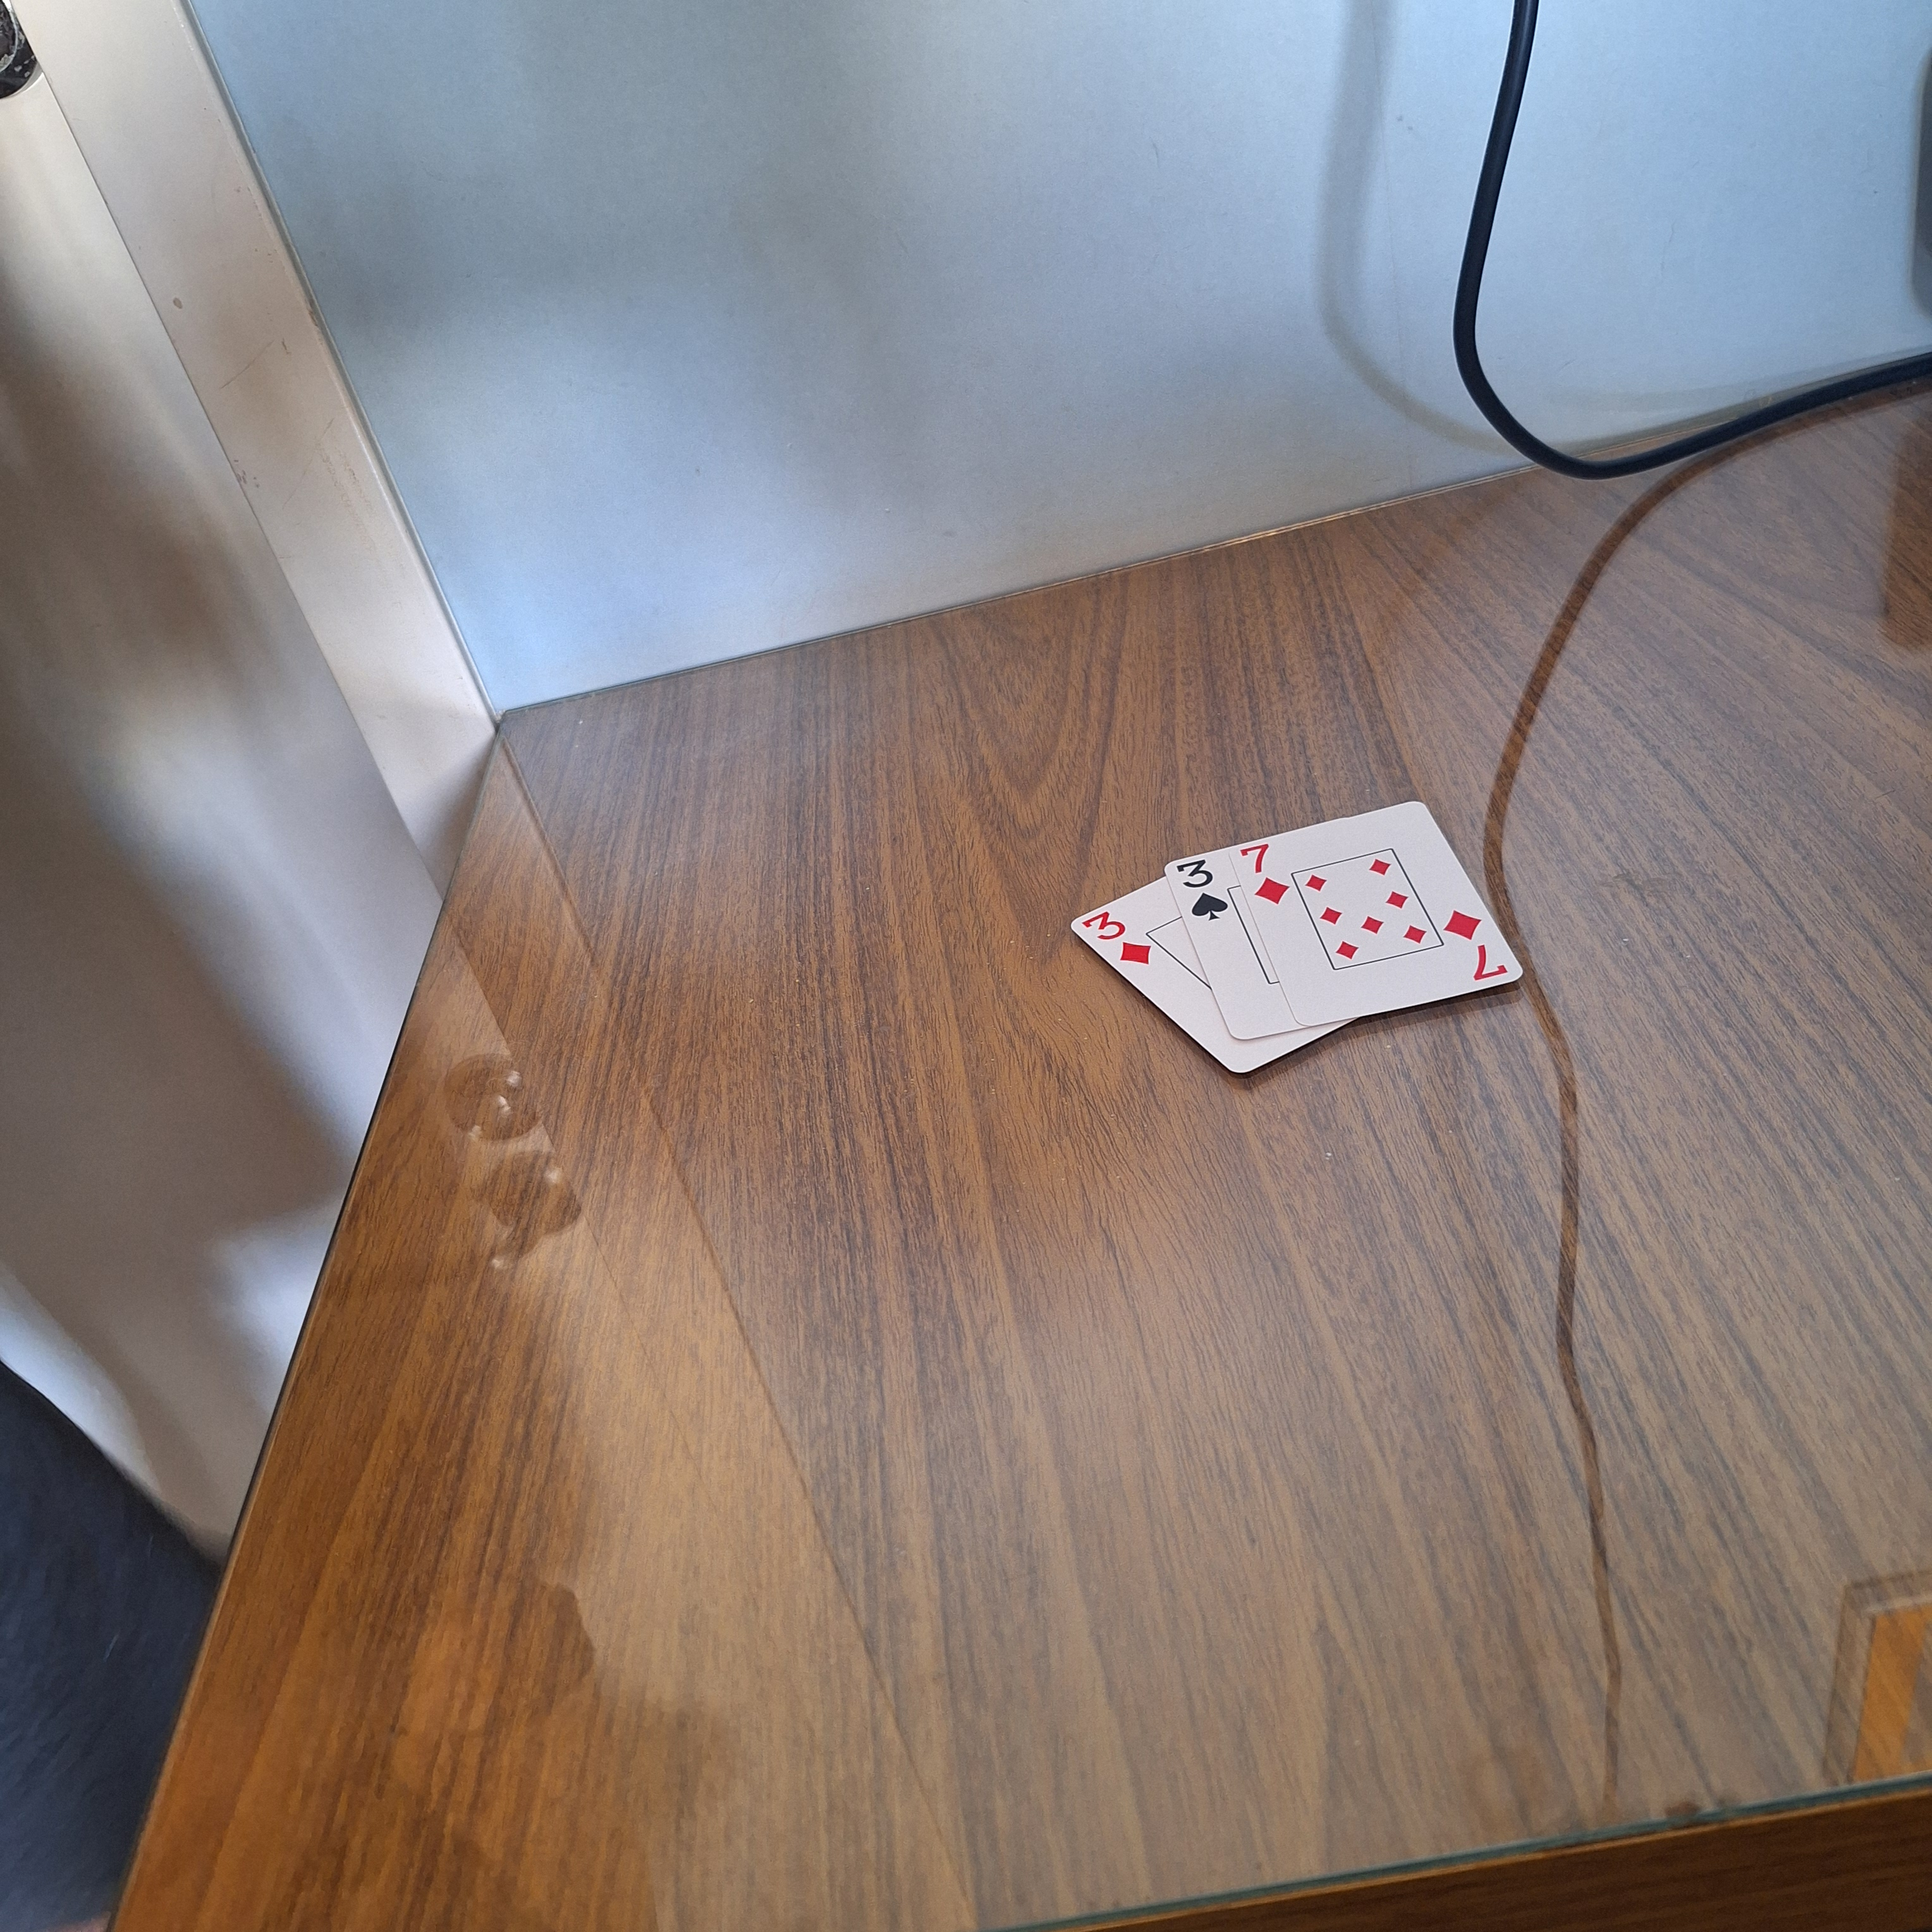3E: (1171, 853, 1233, 931)
3O: (1076, 906, 1166, 971)
7O: (1438, 902, 1527, 991), (1237, 835, 1295, 915)
